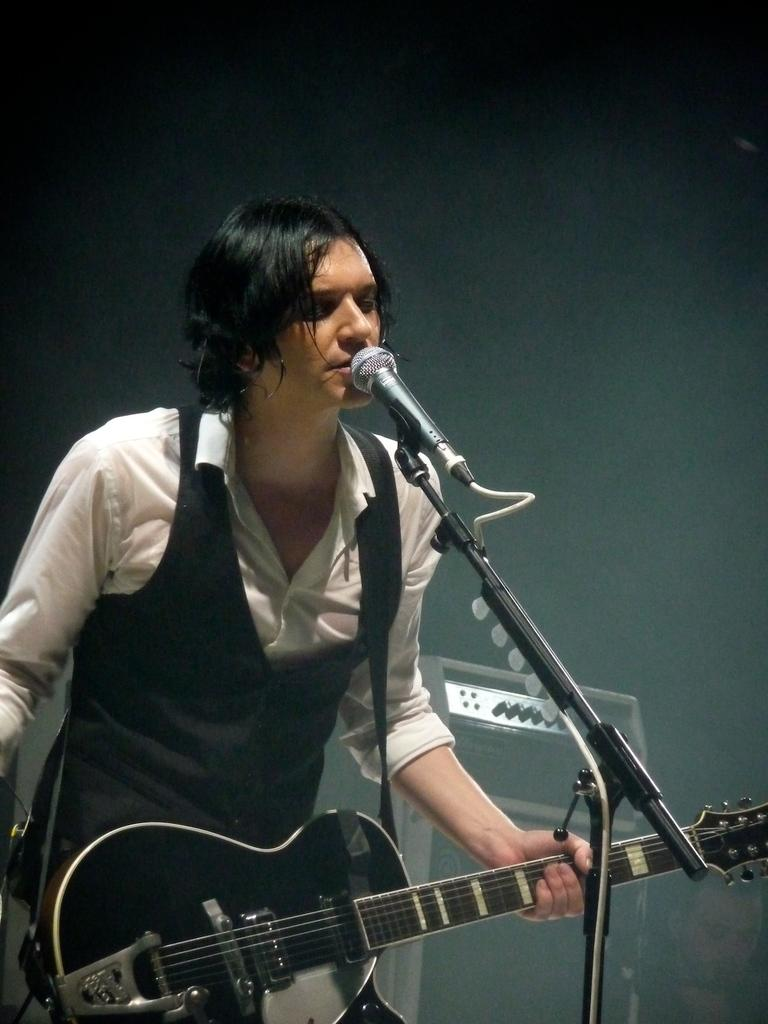Pessoa: (0, 197, 389, 862)
